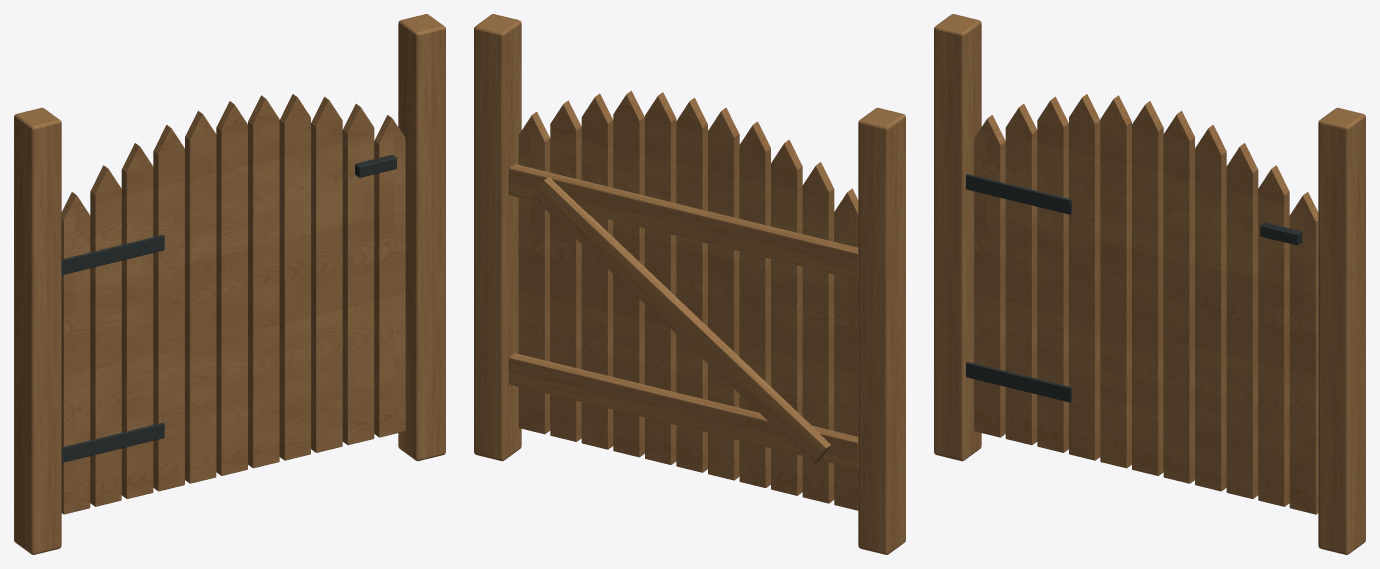
File: garden-picket-gate-optimized.glb
3 views of the same model, side by side, from view 1: azimuth 30°, elevation 25°; view 2: azimuth 150°, elevation 25°; view 3: azimuth 330°, elevation 25° (orthographic).
Parts seen in each view (by area): view 1: Gate | diagonal brace, Gate | latch; view 2: Gate | diagonal brace; view 3: Gate | diagonal brace, Gate | latch.
Part boxes in pixels (x1,y1,x2,y2): Gate | diagonal brace: (14, 14, 445, 554); Gate | latch: (61, 155, 396, 462); Gate | diagonal brace: (474, 14, 905, 554); Gate | diagonal brace: (934, 14, 1365, 554); Gate | latch: (966, 174, 1302, 402).
Bounding box in the file's own units: 1.3 × 1.29 × 0.113.
Materials: 3 (3 with a texture image).
